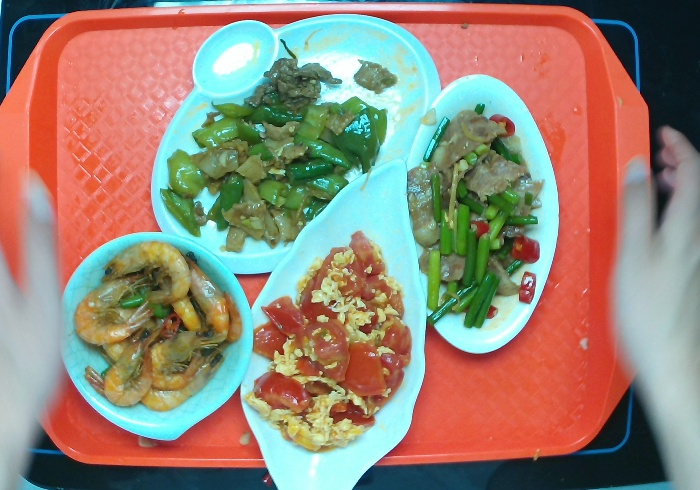RJxy-Bai_Se_Tuo_Yuan: (405, 72, 562, 354)
RJxy-Shu_Ye_Pan: (238, 156, 429, 490)
RJxy-Xiao_Jiao_Yuan_Wan: (55, 229, 254, 443)
RJxy-Zhan_Liao_Pan: (149, 10, 441, 276)
